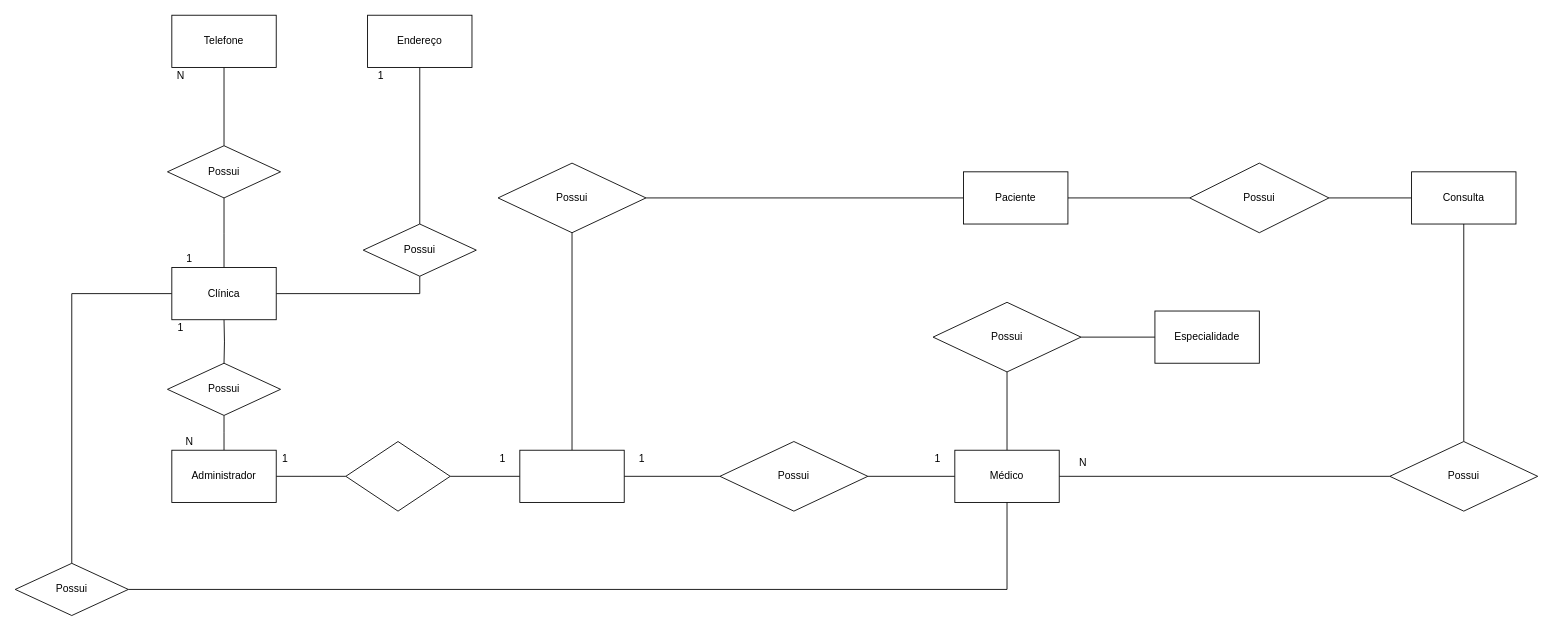
Some shapes in this 1553 by 631 pixel diagram are drawn without their labels. Each missing label, with the centre of its shape:
"Contém" belongs at (397,476).
"Perfis de Usuario" belongs at (571,475).
